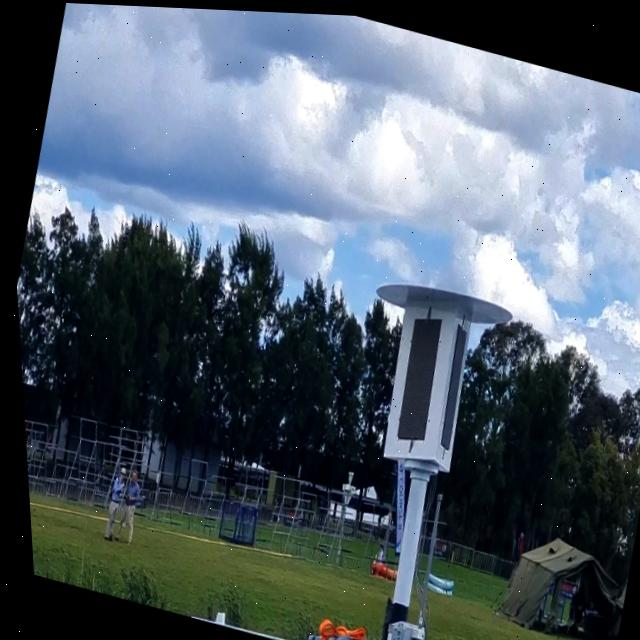led: (374, 298, 454, 451)
